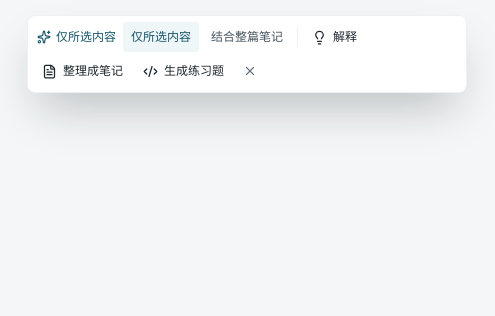
contextual AI selection actions › previews a response without changing the note or creating an exercise
Click the button with aria-label "解释这段内容": (334, 37) [304, 22, 365, 52]
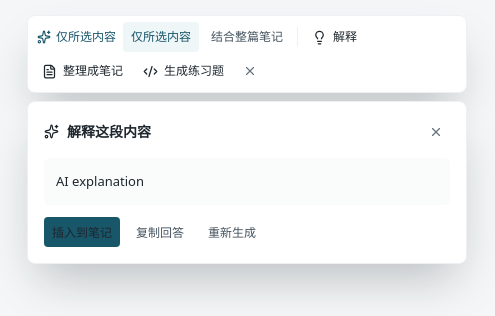
Check: the text "AI explanation" is shown, box [44, 158, 450, 205]
